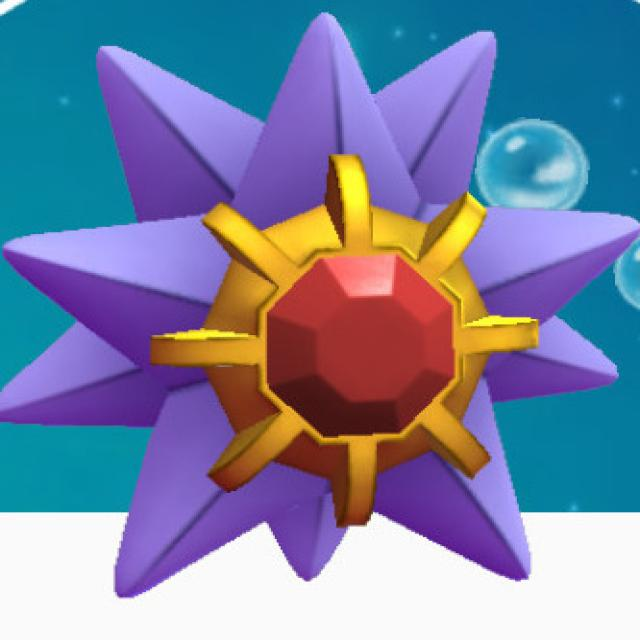Starmie: (89, 44, 534, 580)
